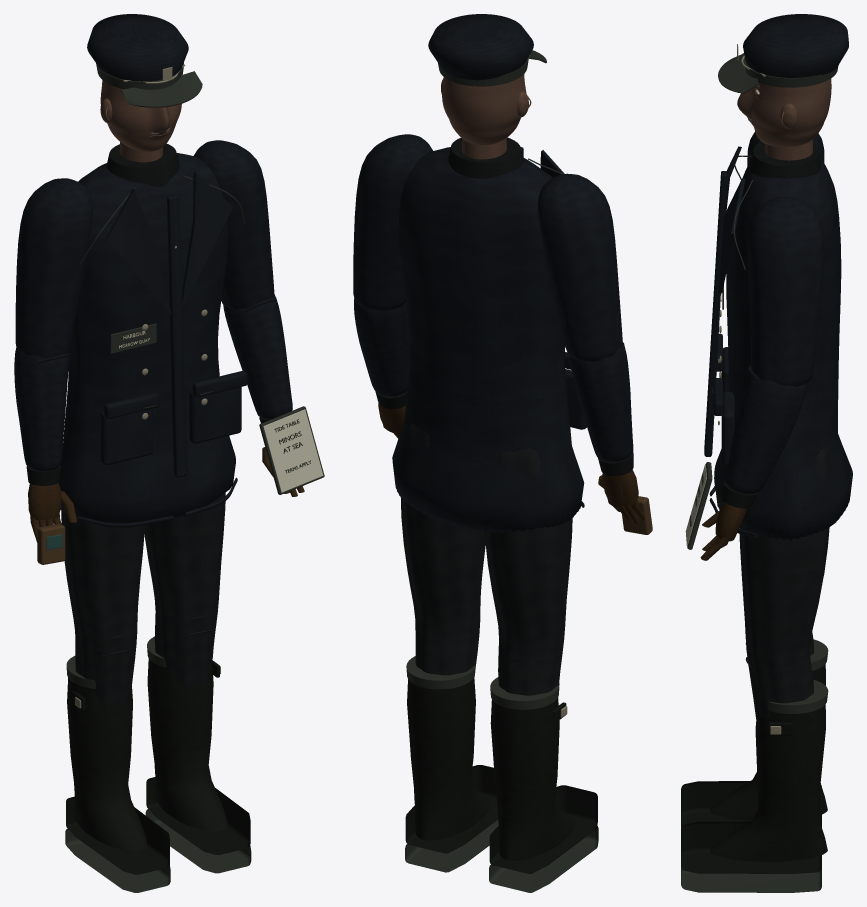
Rendered from harbourmaster.glb.
The picture shows the model from 3 angles, left to right: view 1: azimuth 30°, elevation 25°; view 2: azimuth 150°, elevation 25°; view 3: azimuth 270°, elevation 25°; orthographic projection. The views are drawn at different scales.
Parts seen in each view (by area): view 1: Idle breathing chest / Harbour navy wool, harbourmaster / Rubber with dried mud, harbourmaster / Charcoal sailor trousers, Left shoulder idle / Harbour navy wool, Right shoulder idle / Harbour navy wool, Left forearm idle / Harbour navy wool, Head watchful idle / Harbour navy wool, Right forearm idle / Harbour navy wool, harbourmaster / Dark seams, Head watchful idle / Harbour weathered skin, Right forearm idle / Inspection label paper, Head watchful idle / Dark seams (+5 smaller); view 2: Idle breathing chest / Harbour navy wool, harbourmaster / Rubber with dried mud, harbourmaster / Charcoal sailor trousers, Left shoulder idle / Harbour navy wool, Right shoulder idle / Harbour navy wool, harbourmaster / Dark seams, Head watchful idle / Harbour navy wool, Left forearm idle / Harbour navy wool, Head watchful idle / Harbour weathered skin, Right forearm idle / Harbour navy wool, Idle breathing chest / Charcoal ribbed wool, Left forearm idle / Work glove leather (+4 smaller); view 3: Idle breathing chest / Harbour navy wool, harbourmaster / Rubber with dried mud, harbourmaster / Charcoal sailor trousers, Right shoulder idle / Harbour navy wool, Right forearm idle / Harbour navy wool, Head watchful idle / Harbour navy wool, Head watchful idle / Harbour weathered skin, harbourmaster / Dark seams, Head watchful idle / Dark seams, Idle breathing chest / Charcoal ribbed wool, Right forearm idle / Work glove leather, Idle breathing chest / Harbour weathered skin (+4 smaller).
Part boxes in pixels (<box>): Idle breathing chest / Harbour navy wool: <box>58,153,247,527</box>; harbourmaster / Rubber with dried mud: <box>66,658,250,874</box>; harbourmaster / Charcoal sailor trousers: <box>61,493,225,709</box>; Left shoulder idle / Harbour navy wool: <box>15,178,93,357</box>; Right shoulder idle / Harbour navy wool: <box>194,140,274,309</box>; Left forearm idle / Harbour navy wool: <box>14,348,69,470</box>; Head watchful idle / Harbour navy wool: <box>87,14,188,81</box>; Right forearm idle / Harbour navy wool: <box>223,294,292,418</box>; harbourmaster / Dark seams: <box>65,636,251,892</box>; Head watchful idle / Harbour weathered skin: <box>100,80,181,151</box>; Right forearm idle / Inspection label paper: <box>263,409,323,492</box>; Head watchful idle / Dark seams: <box>96,62,202,107</box>; Idle breathing chest / Harbour navy wool: <box>392,147,586,532</box>; harbourmaster / Rubber with dried mud: <box>405,678,597,873</box>; harbourmaster / Charcoal sailor trousers: <box>400,421,572,695</box>; Left shoulder idle / Harbour navy wool: <box>538,173,622,361</box>; Right shoulder idle / Harbour navy wool: <box>353,134,432,311</box>; harbourmaster / Dark seams: <box>405,656,598,892</box>; Head watchful idle / Harbour navy wool: <box>428,14,533,80</box>; Left forearm idle / Harbour navy wool: <box>569,342,633,462</box>; Head watchful idle / Harbour weathered skin: <box>441,74,528,145</box>; Right forearm idle / Harbour navy wool: <box>354,299,409,396</box>; Idle breathing chest / Charcoal ribbed wool: <box>448,137,524,178</box>; Left forearm idle / Work glove leather: <box>598,470,644,523</box>; Idle breathing chest / Harbour navy wool: <box>704,146,852,540</box>; harbourmaster / Rubber with dried mud: <box>681,664,827,873</box>; harbourmaster / Charcoal sailor trousers: <box>739,443,832,725</box>; Right shoulder idle / Harbour navy wool: <box>747,196,824,386</box>; Right forearm idle / Harbour navy wool: <box>725,365,808,494</box>; Head watchful idle / Harbour navy wool: <box>743,14,848,77</box>; Head watchful idle / Harbour weathered skin: <box>737,78,831,146</box>; harbourmaster / Dark seams: <box>681,639,828,892</box>; Head watchful idle / Dark seams: <box>718,53,838,93</box>; Idle breathing chest / Charcoal ribbed wool: <box>748,141,820,178</box>; Right forearm idle / Work glove leather: <box>700,501,746,560</box>; Idle breathing chest / Harbour weathered skin: <box>765,139,812,160</box>.
Bounding box in the file's own units: 0.6161 × 1.79 × 0.3355.
Materials: 17 (6 with a texture image).
